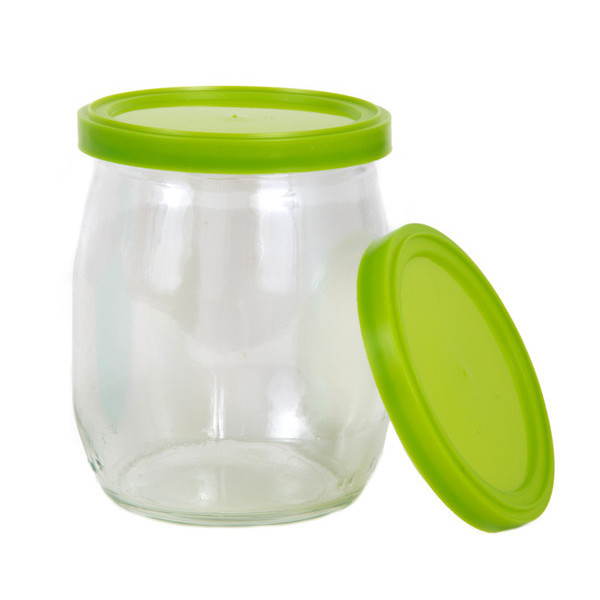Rec_Plastic: (48, 66, 556, 565)
